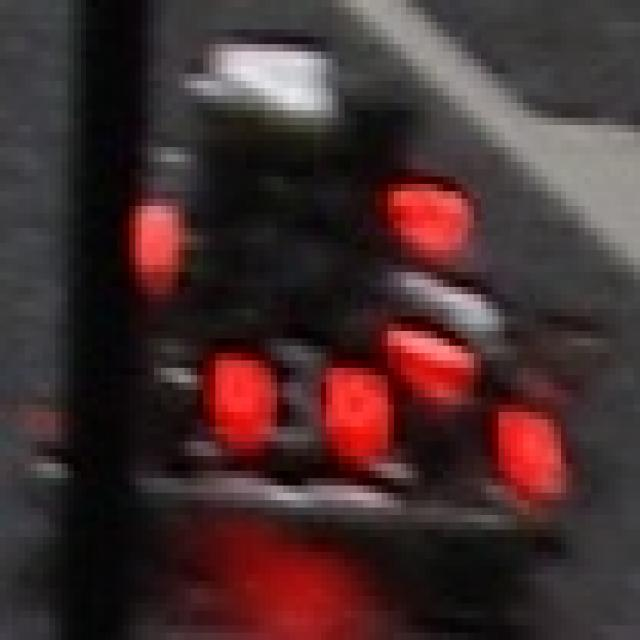R3: (210, 338, 376, 464)
